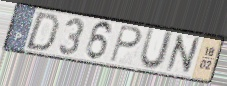3: (57, 16, 86, 57)
6: (84, 19, 116, 61)
D: (23, 11, 62, 53)
N: (164, 33, 202, 76)
P: (108, 23, 143, 64)
U: (138, 26, 176, 72)
